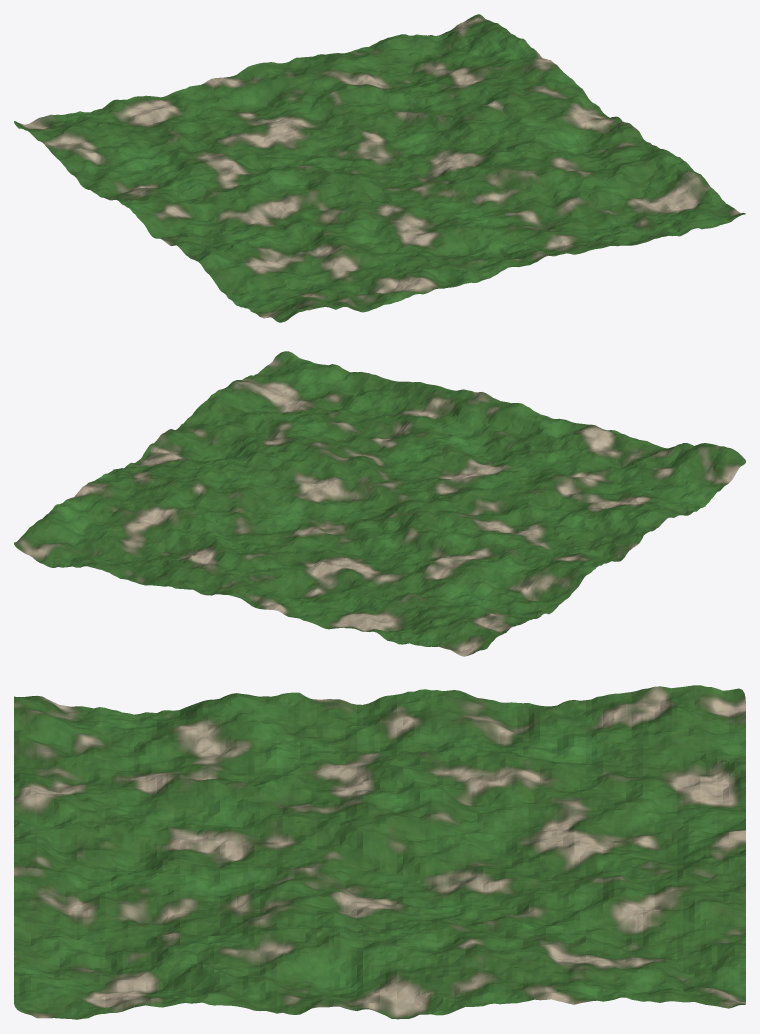
File: terrain.obj
3 views of the same model, one above another, from view 1: azimuth 30°, elevation 25°; view 2: azimuth 150°, elevation 25°; view 3: azimuth 270°, elevation 25° (orthographic). The views are drawn at different scales.
Parts seen in each view (by area): view 1: Plane; view 2: Plane; view 3: Plane.
Part boxes in pixels (x1,y1,x2,y2): Plane: (14, 14, 745, 322); Plane: (14, 351, 745, 656); Plane: (14, 685, 745, 1019).
Bounding box in the file's own units: 20 × 1.09 × 20.
1 material, 1 textured.
